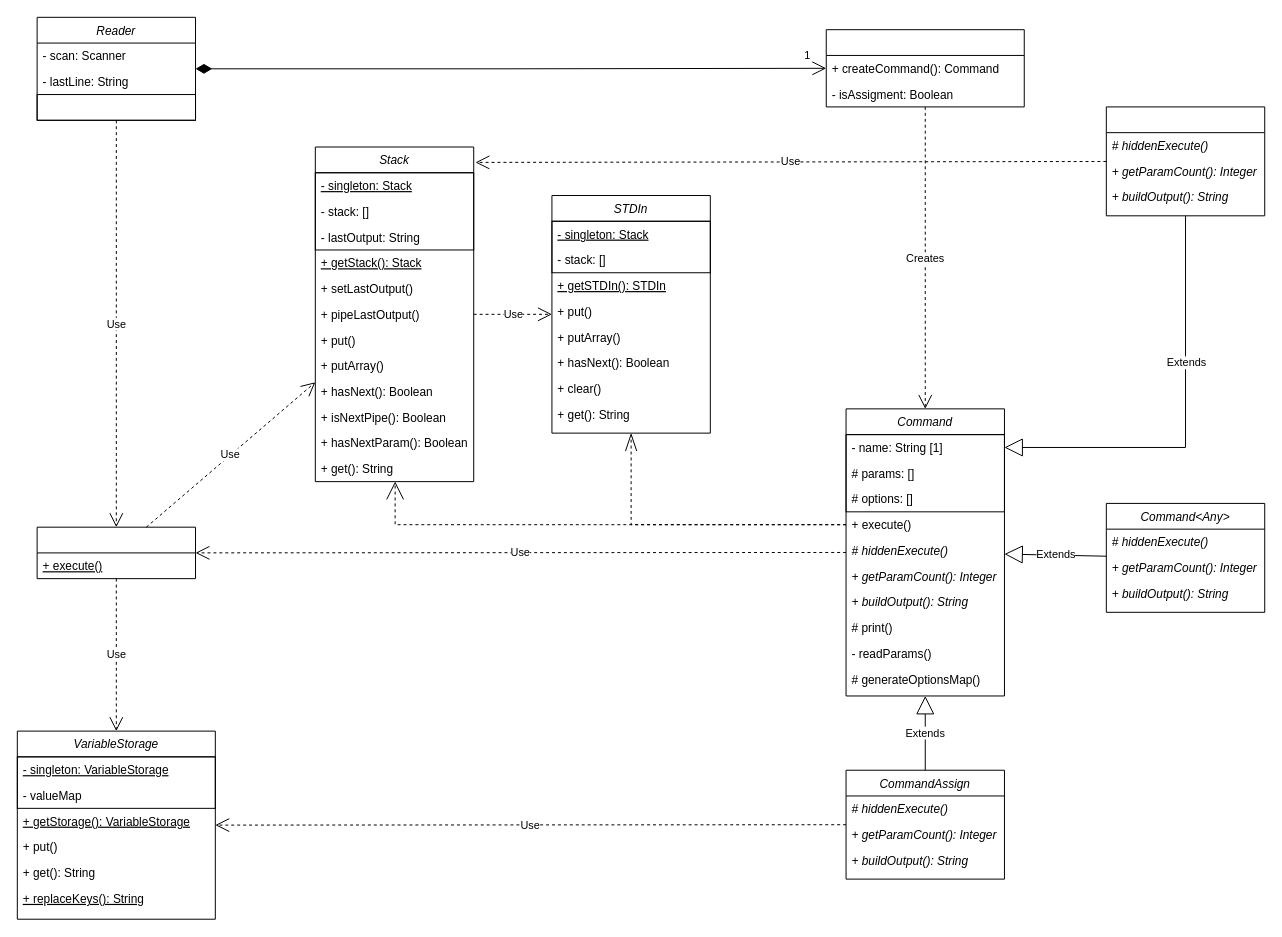
Image size: 1282x937. Some labels were removed from this diagram. The shapes that lost their labels are listed below. From the top down, each one's box as (x1, y1, x2, y2) in pixels, then its label:
(825, 29, 1024, 107): Command Factory
(36, 94, 196, 120): + start()
(1105, 106, 1265, 216): CommandPipe
(36, 526, 196, 579): Parser
